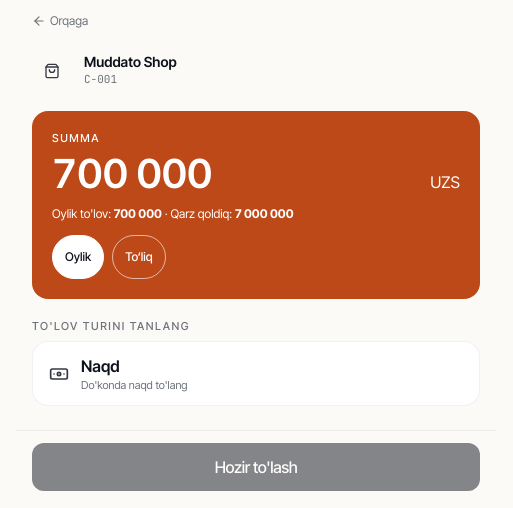
Scenario: the pay CTA never presents an unpayable amount as payable › is disabled while the amount is empty
Click the text "Naqd".
click(100, 366)  # box left=81, top=356, right=120, bottom=376
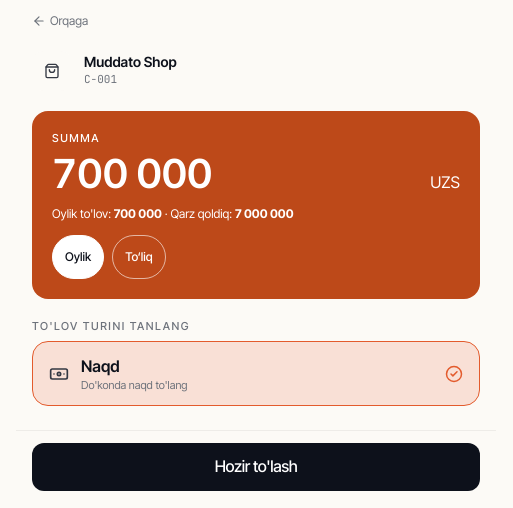
Clear the field labelled "Summa" at (237, 174), box left=52, top=149, right=422, bottom=198
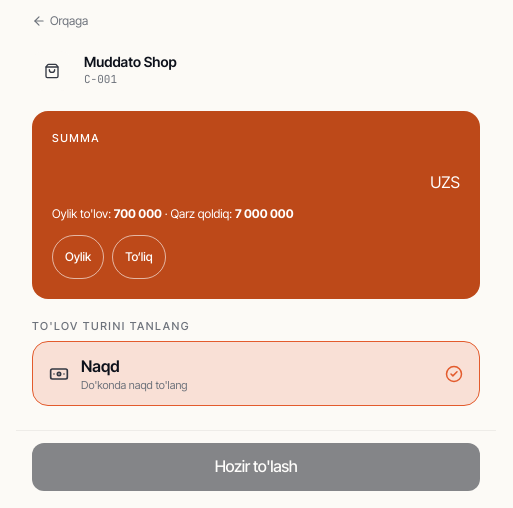
Expected: the button "Hozir to'lash" is disabled, left=32, top=443, right=480, bottom=491
